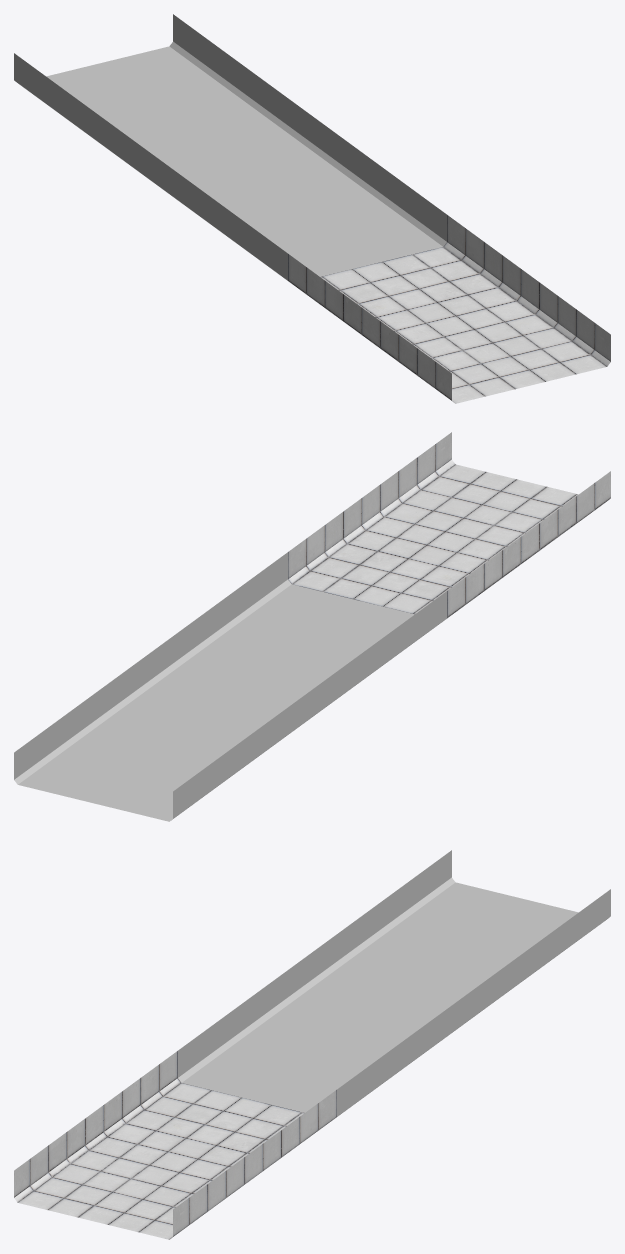
Rendered from SM_Column_01.FBX.
3 renders of one model, top to bottom at view 1: azimuth 30°, elevation 25°; view 2: azimuth 150°, elevation 25°; view 3: azimuth 330°, elevation 25°, orthographic.
Parts seen in each view (by area): view 1: Column_01; view 2: Column_01; view 3: Column_01.
Boxes of the visible parts, x1,y1,x2,y2 form: Column_01: [14, 14, 610, 403]; Column_01: [14, 432, 610, 821]; Column_01: [14, 850, 610, 1239].
Bounding box in the file's own units: 24.79 × 4.66 × 118.
